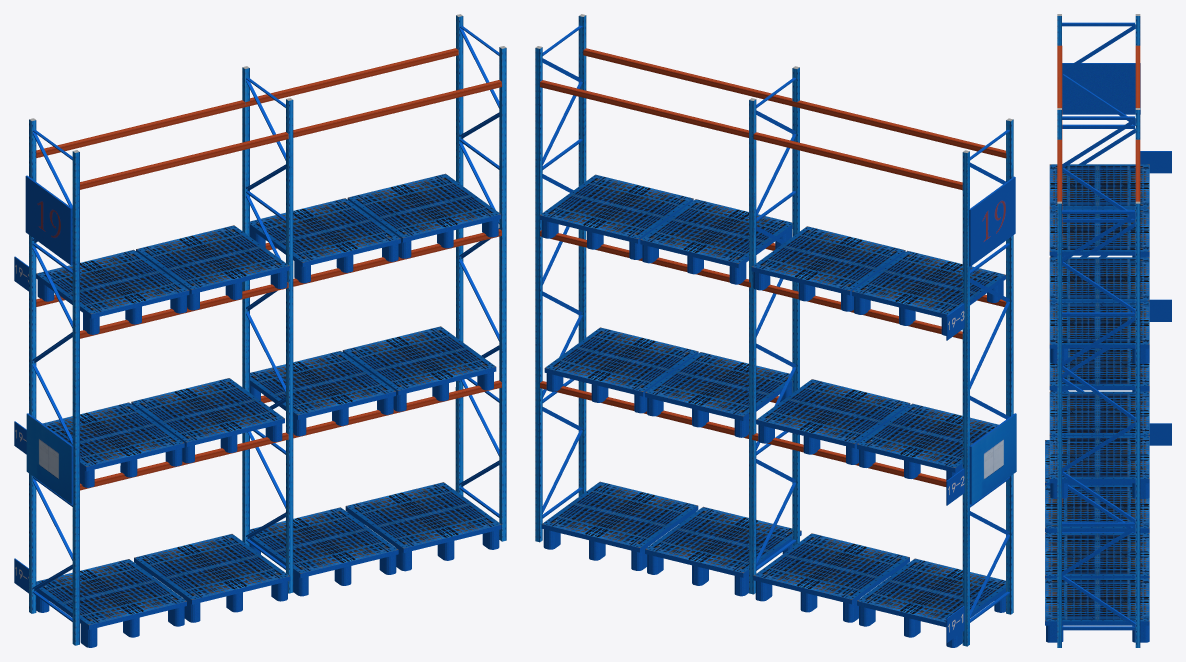
File: Shelf19.FBX
The picture shows the model from 3 angles, left to right: view 1: azimuth 30°, elevation 25°; view 2: azimuth 150°, elevation 25°; view 3: azimuth 270°, elevation 25°; orthographic projection. The views are drawn at different scales.
Parts seen in each view (by area): view 1: 19-1-01, 19-1-02, 19-3-01, 19-3-02, 19-2-02, 19-2-01, 对象39, 图形196, 图形194, 图形195, Box3793, 19; view 2: 19-1-02, 19-1-01, 19-3-02, 19-2-02, 19-3-01, 19-2-01, 对象39, 图形196, 图形195, 图形194, Box3793, 19; view 3: 图形196, 19-1-02, 19-2-02, 19-3-02, 19-3-01, 19-1-01, 19, 19-2-01, 图形195, 图形194, 对象39, 19-03 (+2 smaller).
Boxes of the visible parts, x1,y1,x2,y2 form: 19-1-01: [36, 534, 290, 647]; 19-1-02: [250, 482, 501, 596]; 19-3-01: [36, 225, 289, 334]; 19-3-02: [250, 173, 501, 283]; 19-2-02: [250, 326, 496, 436]; 19-2-01: [42, 378, 284, 487]; 对象39: [36, 48, 501, 490]; 图形196: [455, 14, 506, 541]; 图形194: [29, 118, 79, 645]; 图形195: [242, 66, 293, 593]; Box3793: [26, 413, 73, 504]; 19: [25, 175, 72, 265]; 19-1-02: [541, 481, 801, 596]; 19-1-01: [753, 533, 1005, 647]; 19-3-02: [539, 174, 792, 284]; 19-2-02: [544, 327, 792, 437]; 19-3-01: [751, 226, 1005, 335]; 19-2-01: [756, 379, 998, 480]; 对象39: [540, 48, 1006, 486]; 图形196: [535, 14, 586, 542]; 图形195: [749, 66, 799, 594]; 图形194: [962, 118, 1013, 646]; Box3793: [969, 413, 1016, 504]; 19: [969, 176, 1015, 266]; 图形196: [1057, 201, 1140, 647]; 19-1-02: [1045, 533, 1149, 642]; 19-2-02: [1049, 391, 1149, 498]; 19-3-02: [1049, 257, 1149, 363]; 19-3-01: [1049, 164, 1149, 257]; 19-1-01: [1045, 440, 1149, 532]; 19: [1062, 63, 1140, 114]; 19-2-01: [1049, 348, 1149, 391]; 图形195: [1057, 108, 1140, 532]; 图形194: [1057, 14, 1140, 391]; 对象39: [1057, 45, 1140, 506]; 19-03: [1140, 151, 1171, 173].
Size of the model in its own units: 4.41 by 1.24 by 4.78.
